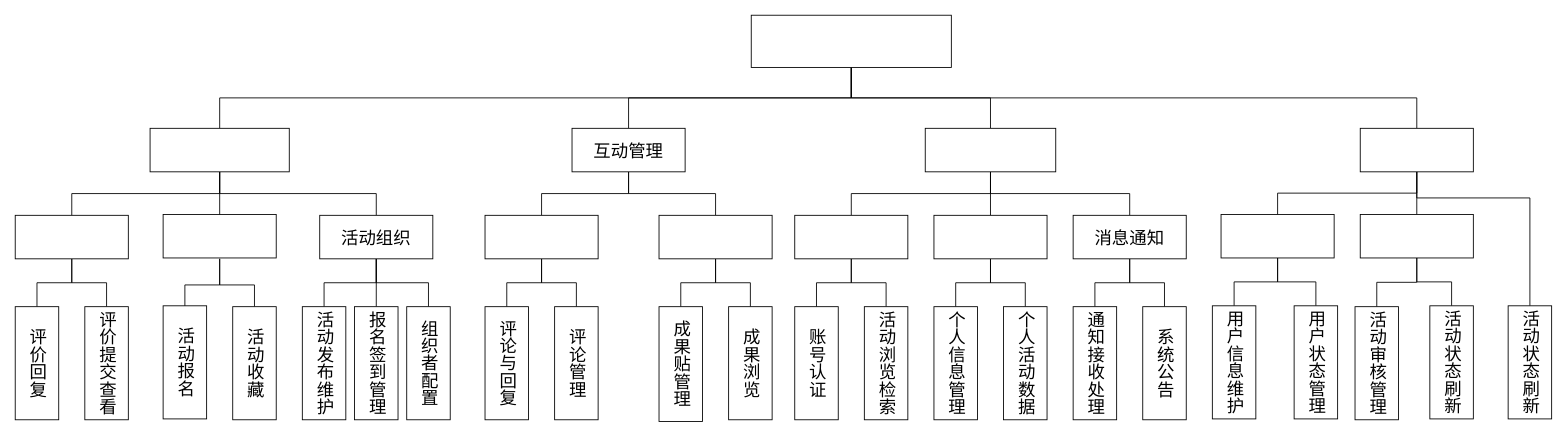
Some shapes in this 1567 by 437 pixel diagram are drawn without their labels. The centre of each missing label's shape, as x and y in pixels:
个人中心: (x=990, y=236)
成果展示: (x=715, y=236)
校园活动综合管理系统: (x=850, y=40)
活动参与: (x=219, y=236)
活动审核: (x=1416, y=236)
活动管理: (x=219, y=149)
活动评价: (x=71, y=236)
用户和通知管理: (x=990, y=149)
用户管理: (x=1277, y=236)
用户访问: (x=851, y=236)
系统管理: (x=1416, y=149)
评论互动: (x=541, y=236)
